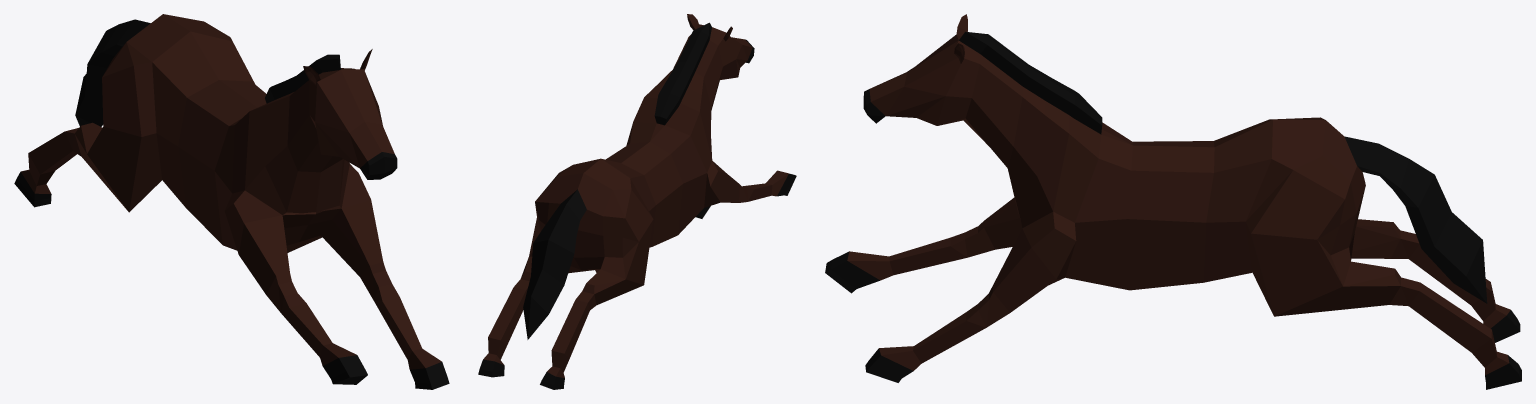
File: Horse_000013.obj
3 renders of one model, left to right at view 1: azimuth 30°, elevation 25°; view 2: azimuth 150°, elevation 25°; view 3: azimuth 270°, elevation 25°, orthographic. The views are drawn at different scales.
Visible parts, largest first — view 1: Horse_Cylinder; view 2: Horse_Cylinder; view 3: Horse_Cylinder.
Part boxes in pixels (box(x1,y1,x2,y2)): Horse_Cylinder: box(14, 14, 449, 389); Horse_Cylinder: box(478, 14, 796, 389); Horse_Cylinder: box(825, 14, 1521, 389).
Bounding box in the file's own units: 2.56 × 5.75 × 10.84.
